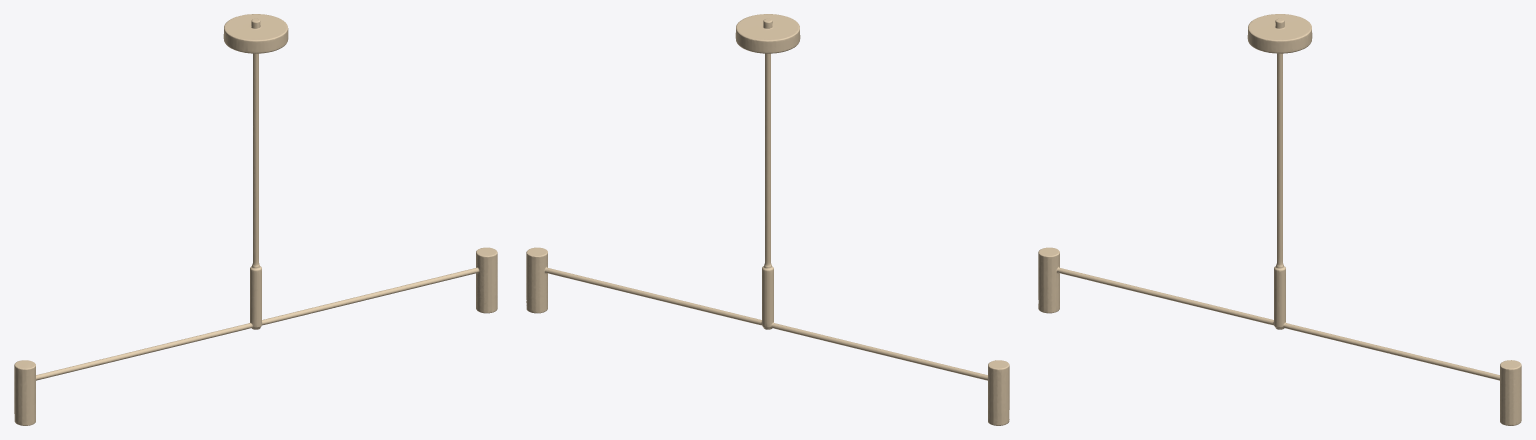
The model's file is pendant-brass-linear-champagne-web-mesh.glb.
3 views of the same model, side by side, from view 1: azimuth 30°, elevation 25°; view 2: azimuth 150°, elevation 25°; view 3: azimuth 330°, elevation 25° (orthographic).
Visible parts, largest first — view 1: world; view 2: world; view 3: world.
Boxes of the visible parts, <box> form: world: <box>14,14,497,425</box>; world: <box>526,14,1009,425</box>; world: <box>1038,14,1521,425</box>.
Bounding box in the file's own units: 1 × 0.6888 × 0.1164.
